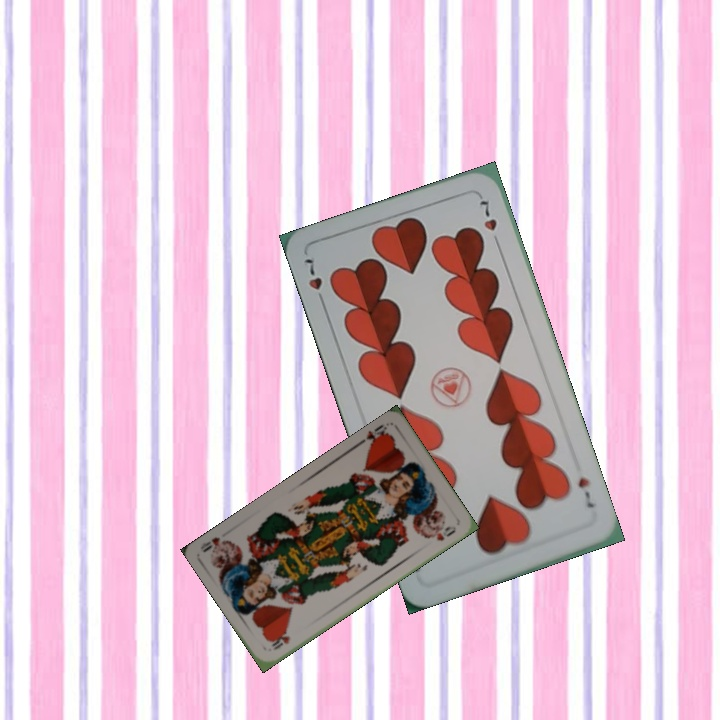H7: (301, 254, 328, 309), (574, 473, 597, 511)
HO: (354, 419, 392, 451), (268, 629, 292, 653)
